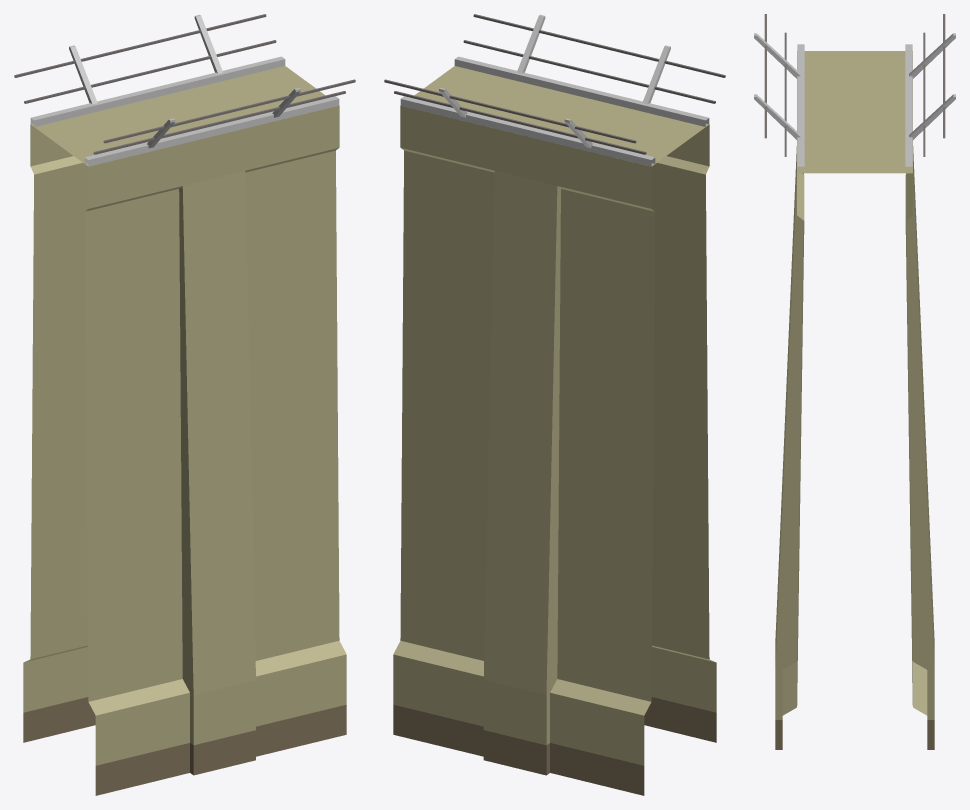
File: SM_Wall_Big_A_400.FBX
3 views of the same model, side by side, from view 1: azimuth 30°, elevation 25°; view 2: azimuth 150°, elevation 25°; view 3: azimuth 270°, elevation 25° (orthographic).
Parts seen in each view (by area): view 1: SM_Wall_Big_A_400; view 2: SM_Wall_Big_A_400; view 3: SM_Wall_Big_A_400.
Boxes of the visible parts, box(x1,y1,x2,y2) form: SM_Wall_Big_A_400: box(14, 14, 355, 795); SM_Wall_Big_A_400: box(384, 14, 725, 795); SM_Wall_Big_A_400: box(754, 14, 955, 749).
Bounding box in the file's own units: 400 × 279 × 1022.
